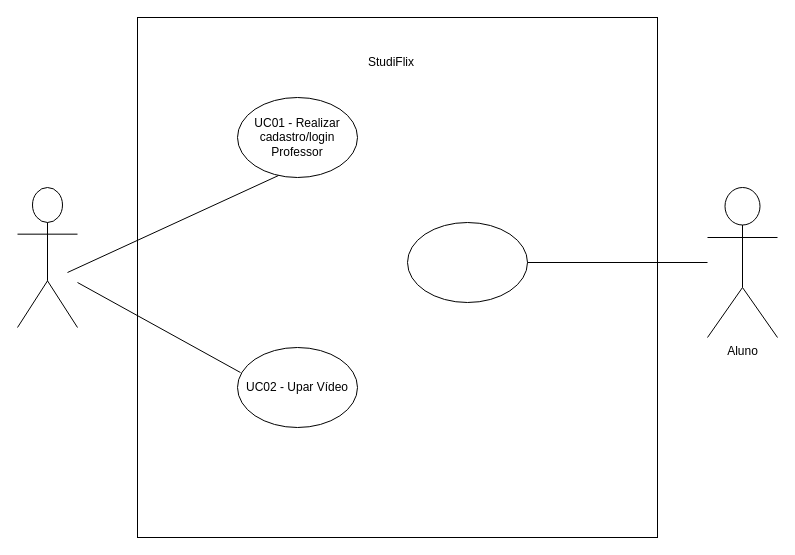
Some shapes in this 795 by 555 pixel diagram are drawn without their labels. The shapes that lost their labels are listed below. From the top down, each one's centre as x and y in pixels, then its label:
At pixel 47 257: "Professor".
At pixel 467 262: "UC03 - Realizar cadastro/login Professor".
